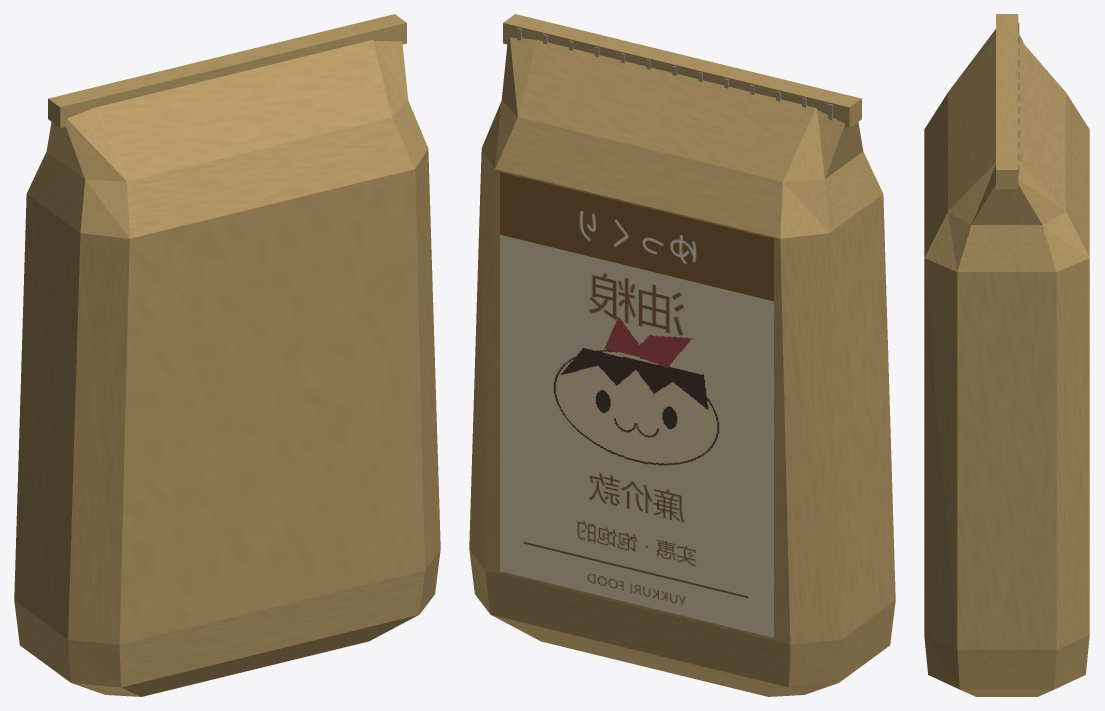
Rendered from oil_grain_budget.obj.
3 renders of one model, left to right at view 1: azimuth 30°, elevation 25°; view 2: azimuth 150°, elevation 25°; view 3: azimuth 270°, elevation 25°, orthographic. The views are drawn at different scales.
Parts seen in each view (by area): view 1: oil_grain_budget; view 2: oil_grain_budget; view 3: oil_grain_budget.
Boxes of the visible parts, bbox=[...] form: oil_grain_budget: bbox=[14, 14, 440, 696]; oil_grain_budget: bbox=[469, 14, 895, 696]; oil_grain_budget: bbox=[924, 14, 1089, 696].
Size of the model in its own units: 6.04 by 9.11 by 2.54.
1 material, 1 textured.
